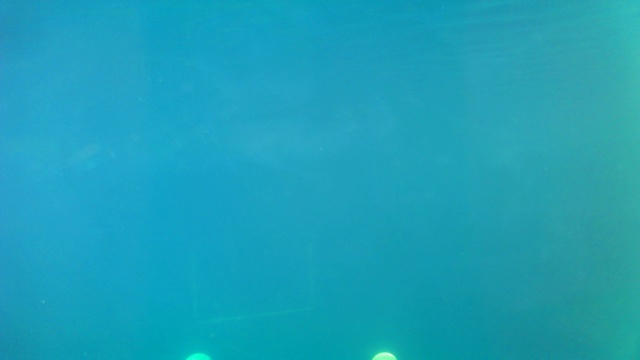channel: (188, 243, 311, 324)
